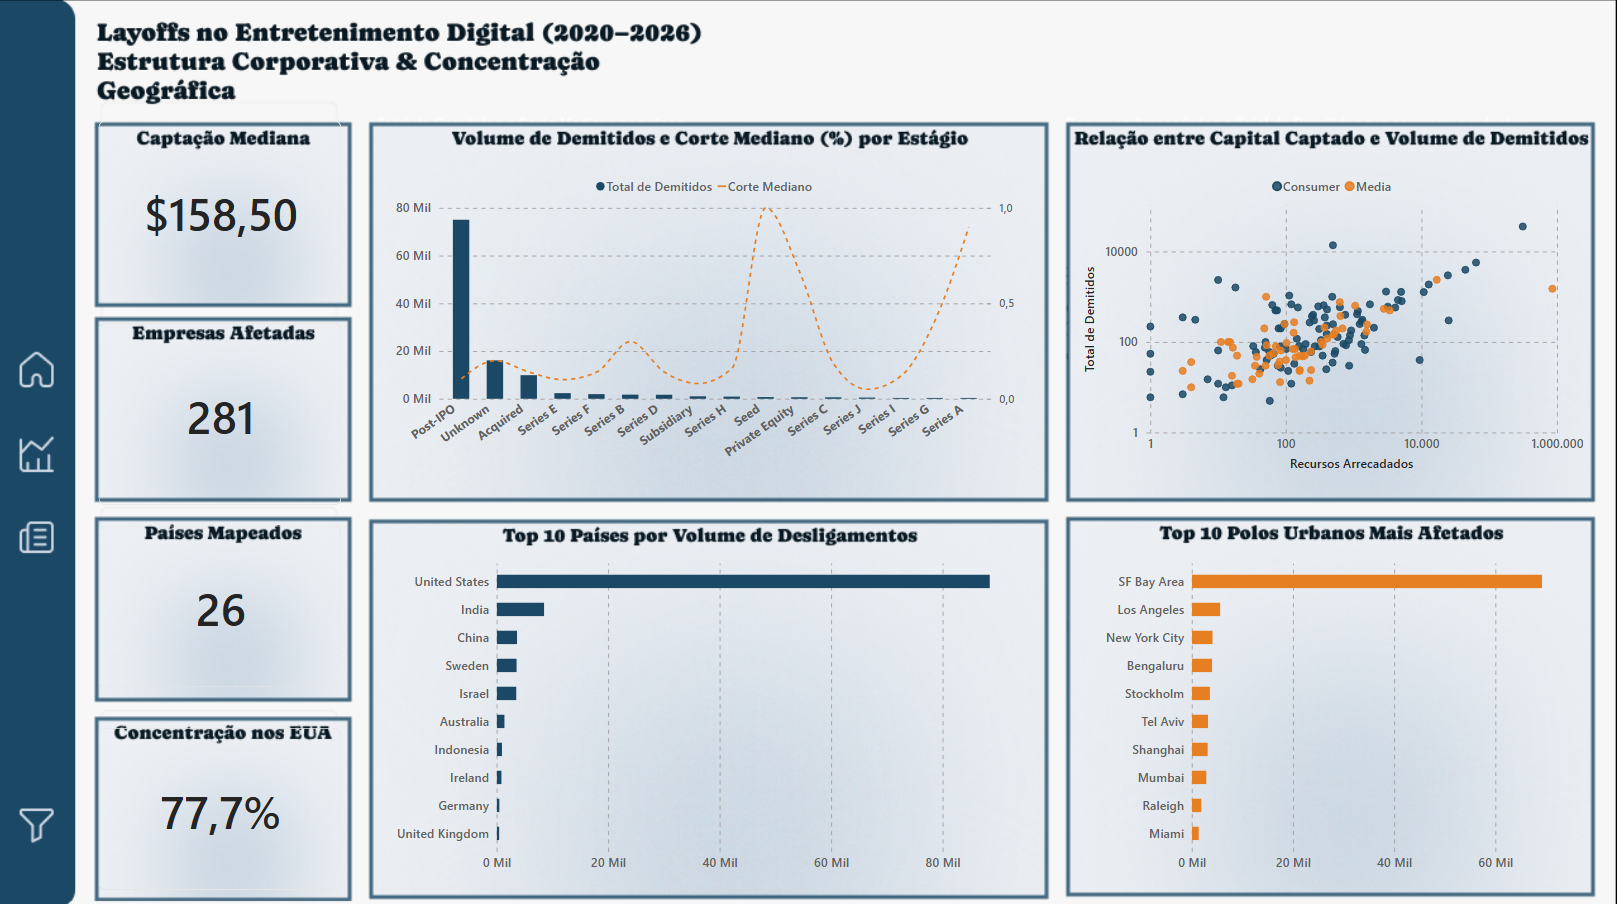

What the dashboard file says about the page in this screenshot:
{"tool":"powerbi","page":{"name":"Concentração Geográfica","canvas":[1920,1080],"ordinal":2},"visuals":[{"type":"group","id":"g1","title":"Padrão","box":[0,0,1920,1080],"z":0},{"type":"image","box":[0,0,1920,1080],"z":0,"group":"g1"},{"type":"cardVisual","fields":{"Data":["layoffs.Captacao_Mediana"]},"box":[120,144,288,216],"z":1000,"group":"g1"},{"type":"cardVisual","fields":{"Data":["layoffs.Empresas_Unicas"]},"box":[120,384,288,216],"z":2000,"group":"g1"},{"type":"cardVisual","fields":{"Data":["layoffs.Paises_Mapeados"]},"box":[120,624,288,192],"z":3000,"group":"g1"},{"type":"cardVisual","fields":{"Data":["layoffs.Concentracao_EUA_Pct"]},"box":[120,864,288,192],"z":4000,"group":"g1"},{"type":"actionButton","title":"Painel Filtros","box":[7,945,72,72],"z":4000},{"type":"lineStackedColumnComboChart","fields":{"Category":["layoffs.stage"],"Y":["Sum(layoffs.total_laid_off)"],"Y2":["layoffs.Corte_Mediano"]},"box":[456,192,768,384],"z":5000,"group":"g1"},{"type":"actionButton","title":"Painel Navegação","box":[7,505,72,72],"z":5000},{"type":"scatterChart","fields":{"Category":["layoffs.company"],"Series":["layoffs.industry"],"X":["Sum(layoffs.funds_raised)"],"Y":["Sum(layoffs.total_laid_off)"]},"box":[1272,192,624,384],"z":6000,"group":"g1"},{"type":"pageNavigator","title":"Sobre o Case","box":[12,608,60,60],"z":6000},{"type":"pageNavigator","title":"Home","box":[22,418,60,60],"z":7000},{"type":"clusteredBarChart","fields":{"Category":["layoffs.country"],"Y":["Sum(layoffs.total_laid_off)"]},"box":[456,648,768,408],"z":7000,"group":"g1"},{"type":"clusteredBarChart","fields":{"Category":["layoffs.location"],"Y":["Sum(layoffs.total_laid_off)"]},"box":[1296,648,576,408],"z":8000,"group":"g1"}]}

Visuals, with their boxes on the page's 1920x1080 design canvas (x1, y1, x2, y2). These are canvas units, not pixel positions in the 1617x904 screenshot, which may show the page scaled, cropped or inside an application window:
"Padrão" group: 0/0/1920/1080
image: 0/0/1920/1080
cardVisual - layoffs.Captacao_Mediana: 120/144/408/360
cardVisual - layoffs.Empresas_Unicas: 120/384/408/600
cardVisual - layoffs.Paises_Mapeados: 120/624/408/816
cardVisual - layoffs.Concentracao_EUA_Pct: 120/864/408/1056
"Painel Filtros" actionButton: 7/945/79/1017
lineStackedColumnComboChart - layoffs.stage x Sum(layoffs.total_laid_off): 456/192/1224/576
"Painel Navegação" actionButton: 7/505/79/577
scatterChart - layoffs.company x layoffs.industry: 1272/192/1896/576
"Sobre o Case" pageNavigator: 12/608/72/668
"Home" pageNavigator: 22/418/82/478
clusteredBarChart - layoffs.country x Sum(layoffs.total_laid_off): 456/648/1224/1056
clusteredBarChart - layoffs.location x Sum(layoffs.total_laid_off): 1296/648/1872/1056
